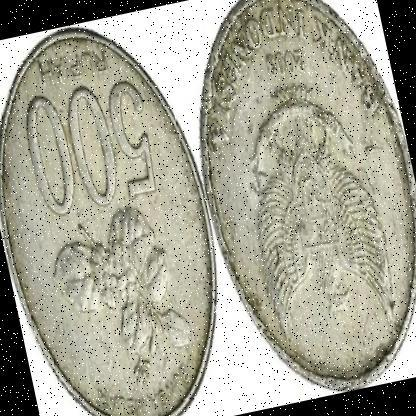coin_500_e2003: (0, 28, 220, 416), (200, 0, 416, 392)
